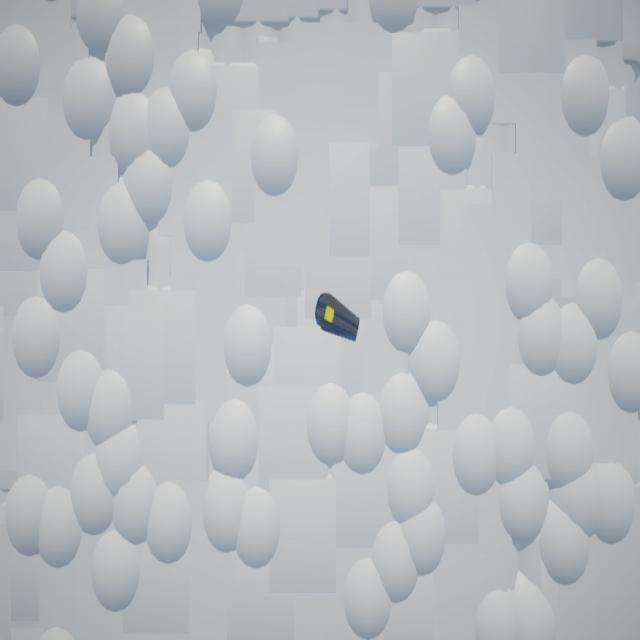handle_folk: (316, 293, 361, 343)
